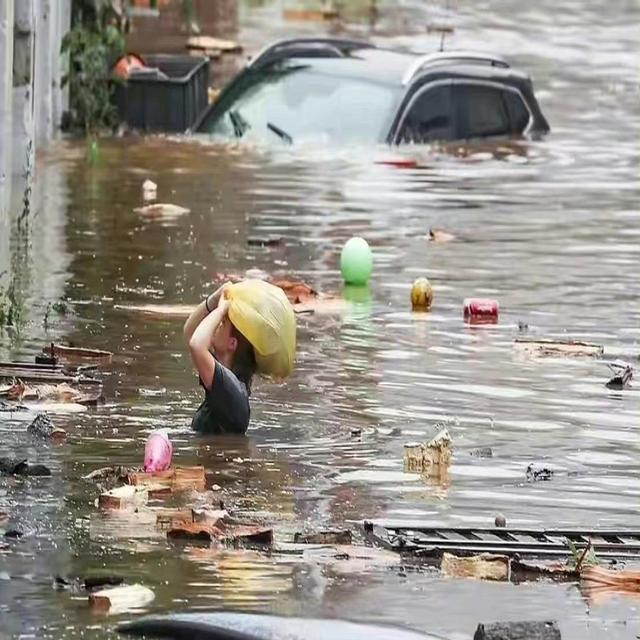Car-RiskLevel3: (187, 23, 562, 168)
Person-RiskLevel3: (169, 273, 296, 453)
